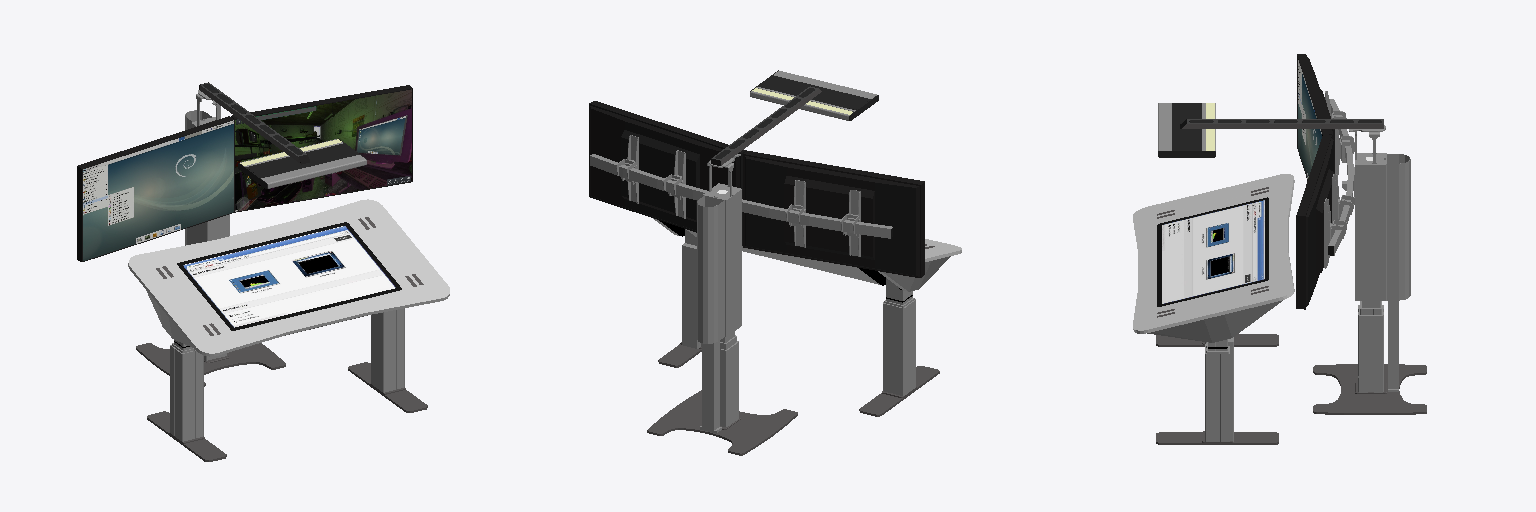
3 views of the same model, side by side, from view 1: azimuth 30°, elevation 25°; view 2: azimuth 150°, elevation 25°; view 3: azimuth 270°, elevation 25° (orthographic).
Parts seen in each view (by area): view 1: Mesh34_Component_14_1_Component_13_1_Component_8_1_Componen.001; view 2: Mesh34_Component_14_1_Component_13_1_Component_8_1_Componen.001; view 3: Mesh34_Component_14_1_Component_13_1_Component_8_1_Componen.001.
Part boxes in pixels (x1,y1,x2,y2): Mesh34_Component_14_1_Component_13_1_Component_8_1_Componen.001: (77,82,449,461); Mesh34_Component_14_1_Component_13_1_Component_8_1_Componen.001: (589,70,961,455); Mesh34_Component_14_1_Component_13_1_Component_8_1_Componen.001: (1133,54,1426,444).
Bounding box in the file's own units: 2.49 × 1.93 × 1.91.
17 materials, 5 textured.